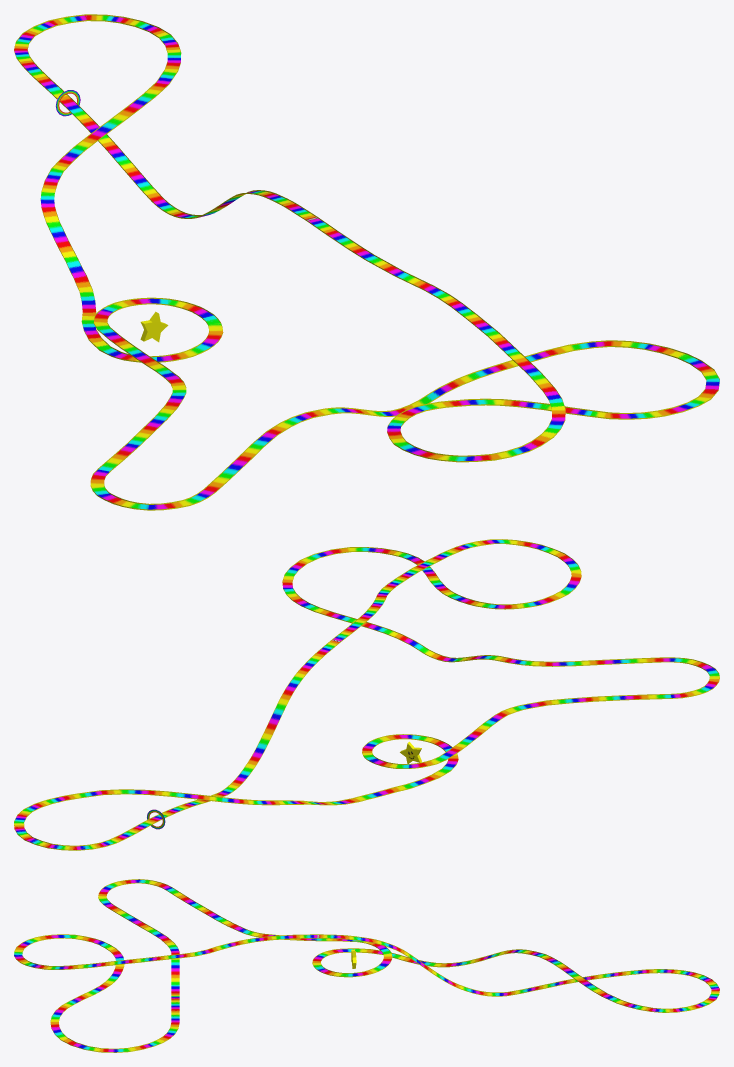
Rendered from RainbowRoad.obj.
3 views of the same model, one above another, from view 1: azimuth 30°, elevation 25°; view 2: azimuth 150°, elevation 25°; view 3: azimuth 270°, elevation 25° (orthographic). The views are drawn at different scales.
Size of the model in its own units: 7899 by 1471 by 13351.
Materials: 5 (5 with a texture image).
